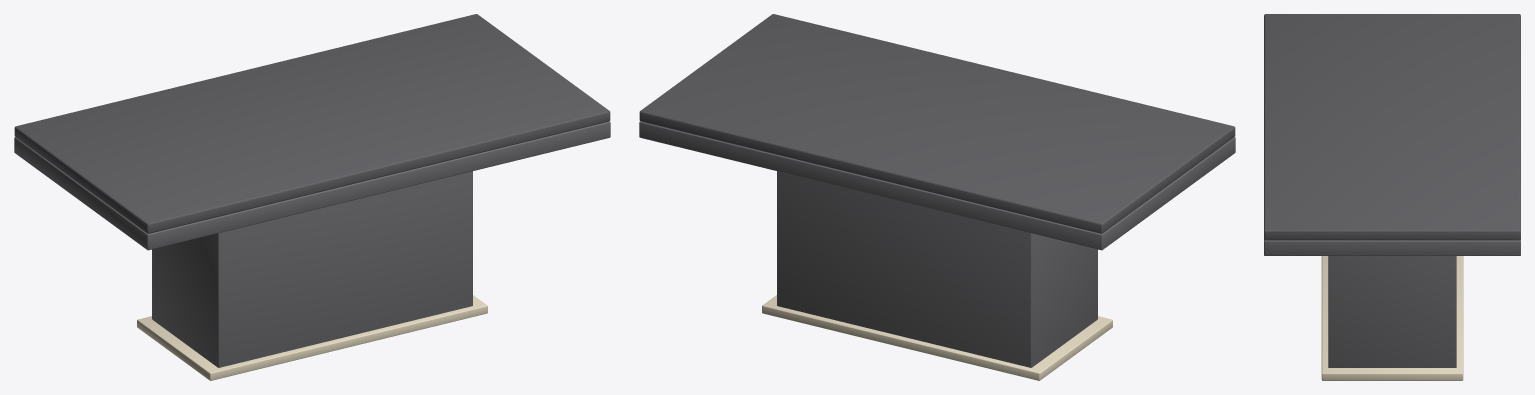
File: it_dining_table.glb
3 views of the same model, side by side, from view 1: azimuth 30°, elevation 25°; view 2: azimuth 150°, elevation 25°; view 3: azimuth 270°, elevation 25° (orthographic). The views are drawn at different scales.
Visible parts, largest first — view 1: top, plinth, edge, foot; view 2: top, plinth, edge, foot; view 3: top, plinth, edge, foot.
Boxes of the visible parts, box(x1,y1,x2,y2) form: top: box(14, 14, 610, 233); plinth: box(152, 171, 472, 367); edge: box(14, 121, 610, 250); foot: box(137, 295, 487, 380); top: box(639, 14, 1235, 233); plinth: box(777, 171, 1097, 367); edge: box(639, 121, 1235, 250); foot: box(762, 295, 1112, 380); top: box(1264, 14, 1520, 240); plinth: box(1328, 256, 1456, 367); edge: box(1264, 239, 1520, 255); foot: box(1321, 256, 1463, 380).
Size of the model in its own units: 1.8 by 0.75 by 0.9.
